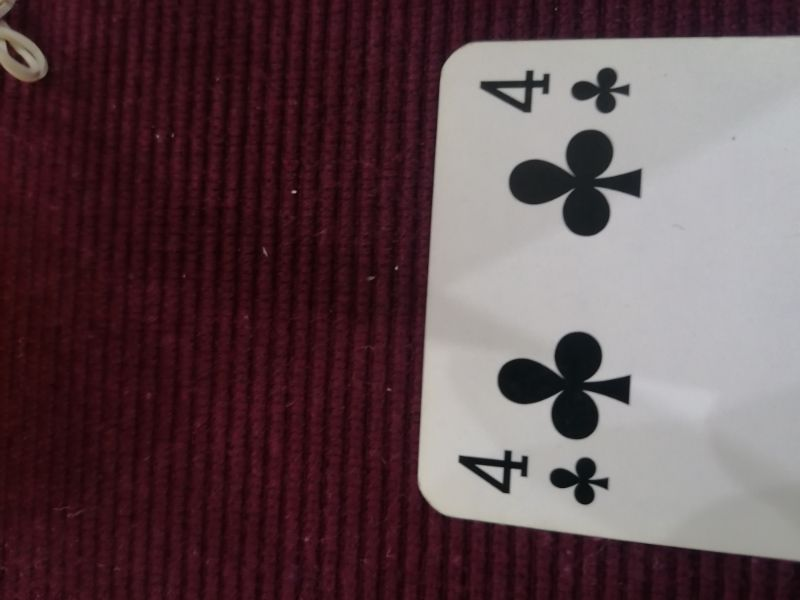4c: (453, 444, 620, 508), (465, 63, 640, 119)
